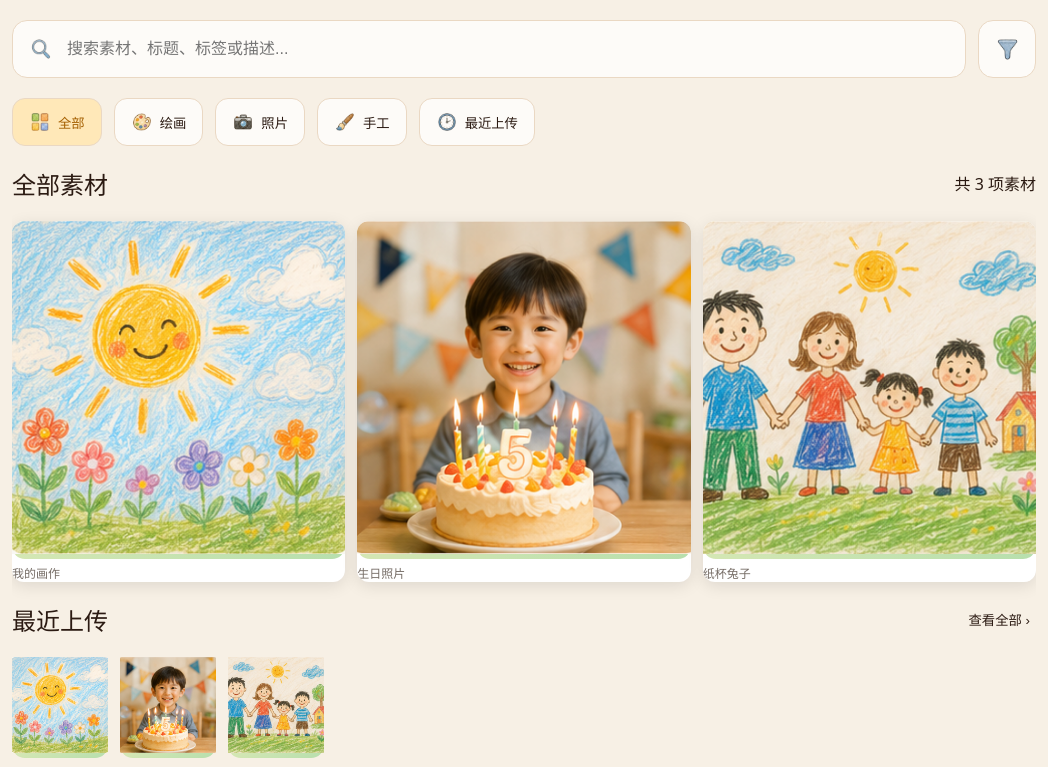
Scenario: AssetBrowser › searches assets by keyword
Expected: the text "我的画作" is shown, [12,565,60,582]
Type "画作" into the field with placeholder "搜索素材、标题、标签或描述..." at (507, 49), box [65,39,949,59]
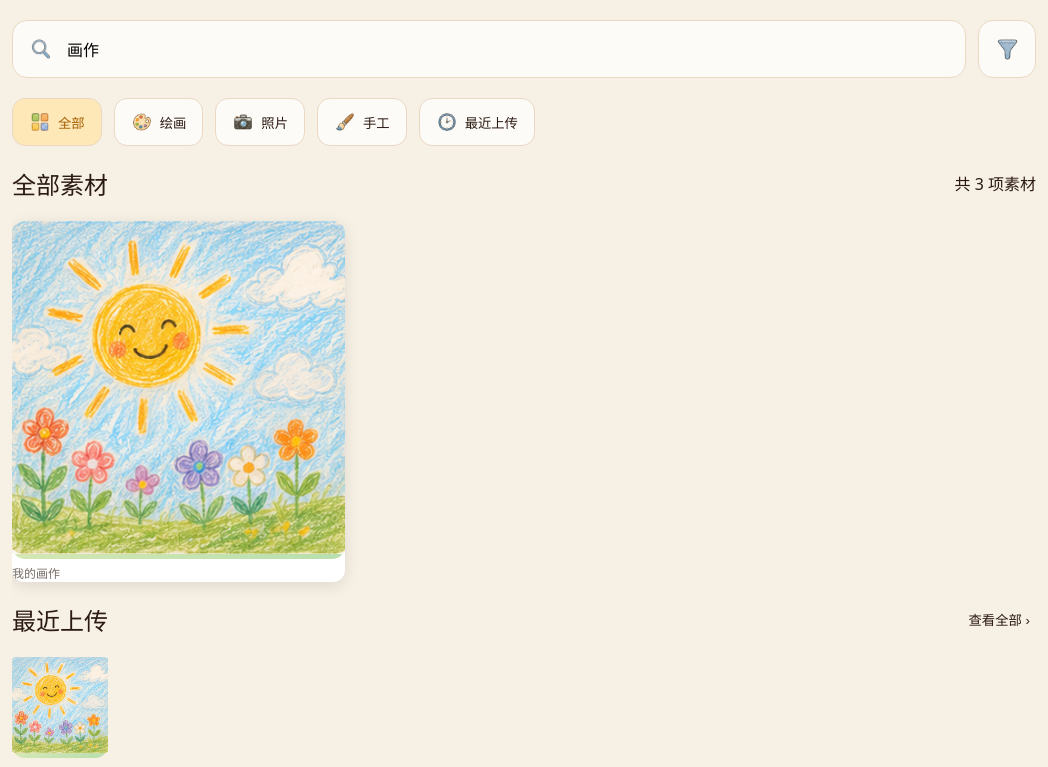
Expected: the text "我的画作" is shown, [12,565,60,582]
Expected: the text "生日照片" is gone
